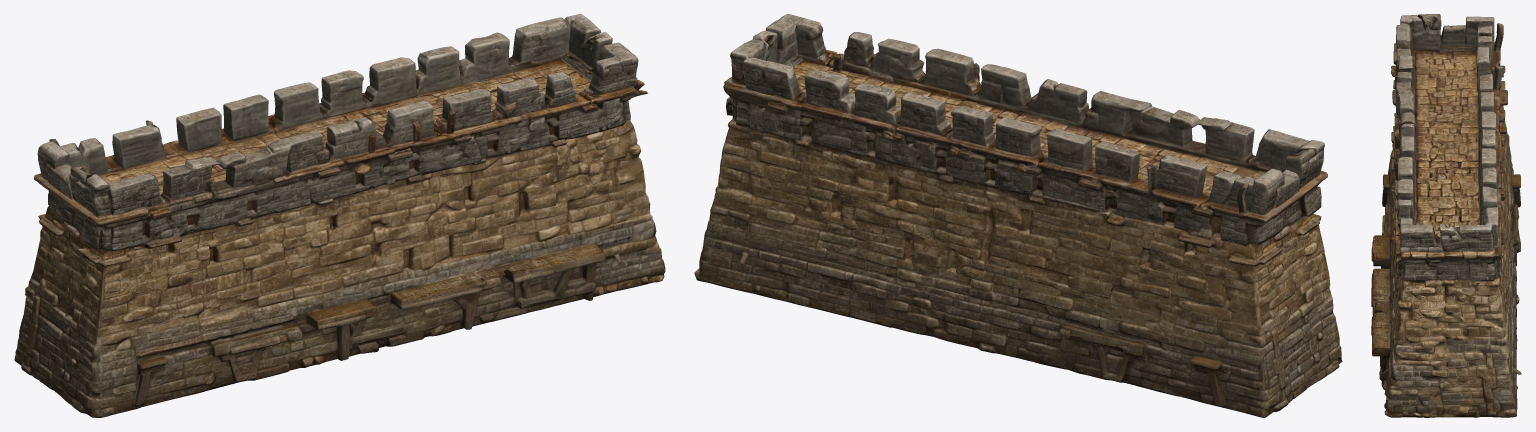
Rendered from wall-high.glb.
The picture shows the model from 3 angles, left to right: view 1: azimuth 30°, elevation 25°; view 2: azimuth 150°, elevation 25°; view 3: azimuth 270°, elevation 25°; orthographic projection. The views are drawn at different scales.
Bounding box in the file's own units: 0.9993 × 0.3707 × 0.2772.
1 material, 1 textured.
